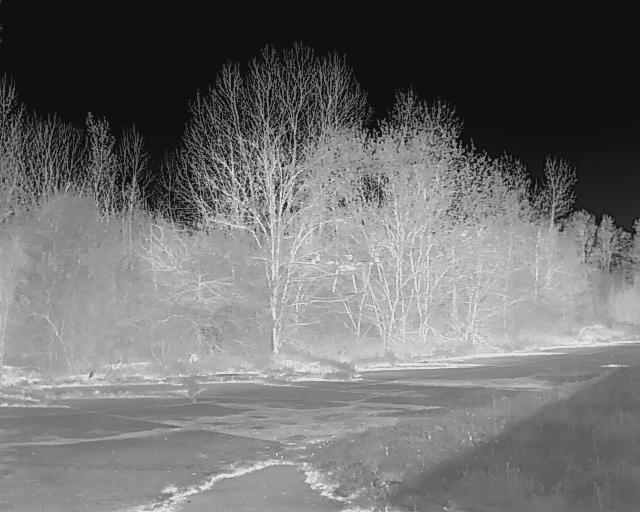drone: (296, 244, 390, 299)
